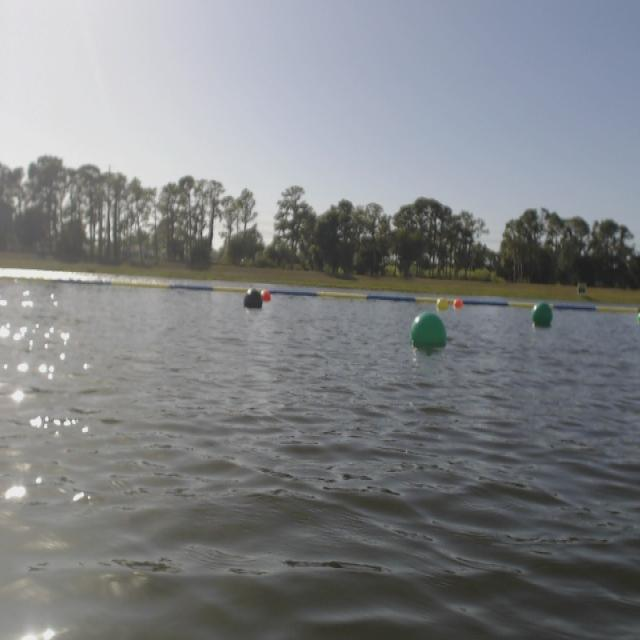Black_Buoy: (242, 290, 261, 312)
Green_Buoy: (401, 308, 450, 356), (530, 303, 558, 329)
Orange__Buoy: (261, 288, 273, 304), (456, 296, 462, 311)
